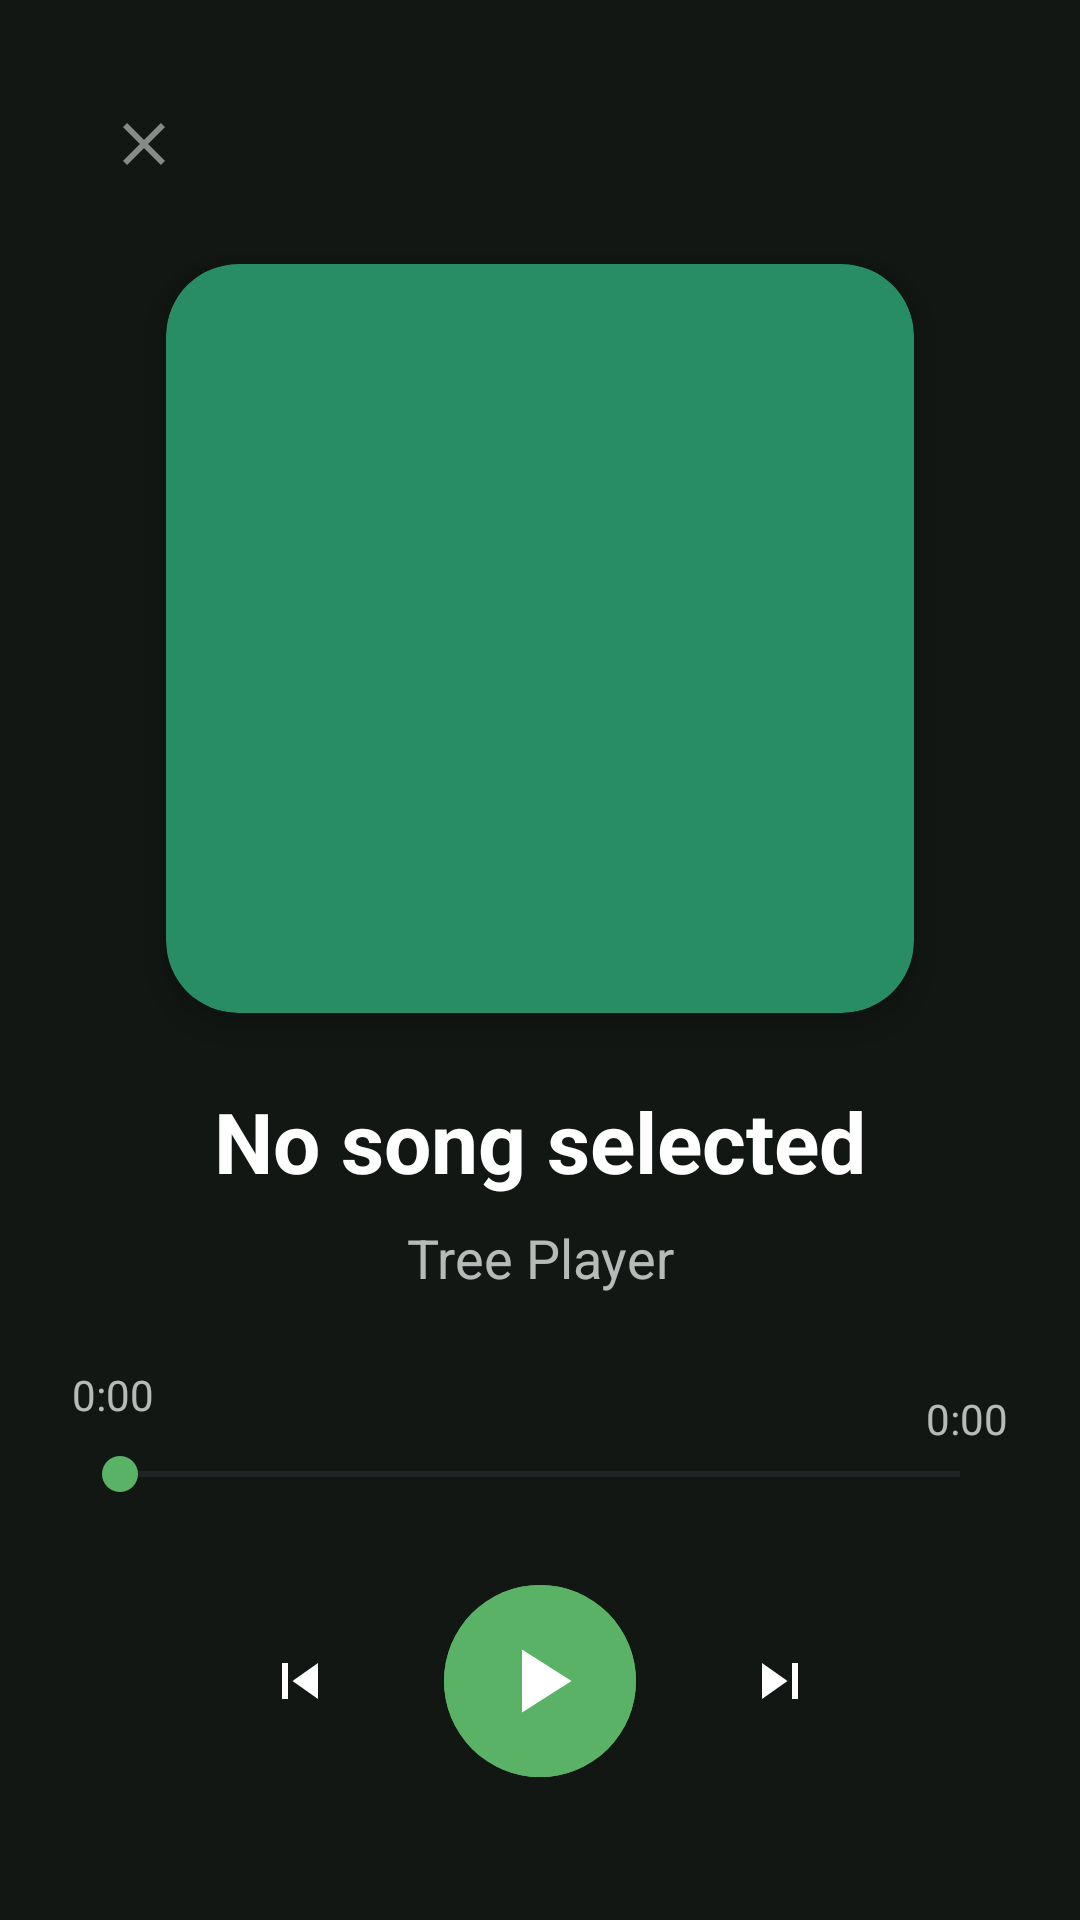

Icons on this 1080×1920 Android screen, each with the point to tap as [x,y]:
close: [144,144]
next: [780,1681]
play: [540,1681]
previous: [300,1681]
